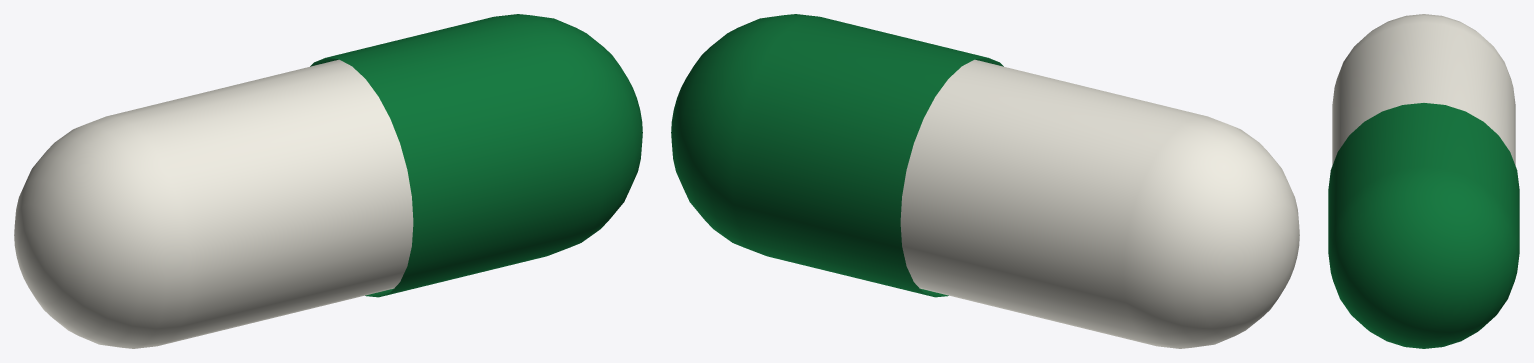
3 views of the same model, side by side, from view 1: azimuth 30°, elevation 25°; view 2: azimuth 150°, elevation 25°; view 3: azimuth 270°, elevation 25° (orthographic). The views are drawn at different scales.
Parts seen in each view (by area): view 1: body, cap; view 2: body, cap; view 3: cap, body.
Part boxes in pixels (left/top/right/bottom): body: left=14, top=59, right=413, bottom=348; cap: left=310, top=14, right=642, bottom=297; body: left=900, top=59, right=1299, bottom=348; cap: left=671, top=14, right=1003, bottom=297; cap: left=1328, top=103, right=1519, bottom=348; body: left=1332, top=14, right=1515, bottom=165.
Bounding box in the file's own units: 0.0194 × 0.00691 × 0.00691.
